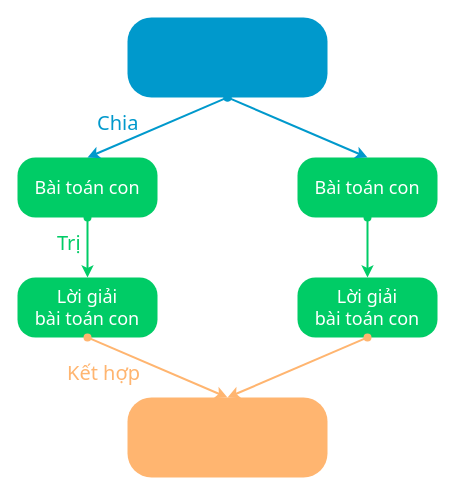
The diagram is 454 pixels wide and 494 high, and some of its shapes have lost their labels. The centre of each missing label's shape, as x and y in pixels:
"Bài toán P" goes at (x=227, y=57).
"Kết quả bài toán P" goes at (x=227, y=437).
